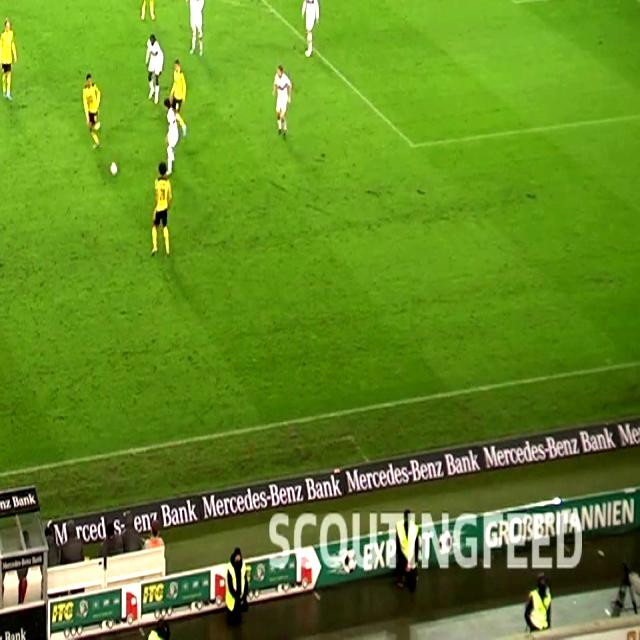ball: (104, 155, 124, 189)
soccer-player: (142, 168, 174, 264), (266, 60, 300, 139), (76, 72, 108, 154), (291, 0, 327, 64), (0, 16, 25, 103), (140, 31, 168, 106), (160, 96, 188, 165), (182, 0, 214, 60), (168, 58, 192, 138), (134, 0, 161, 26), (0, 0, 9, 10)
